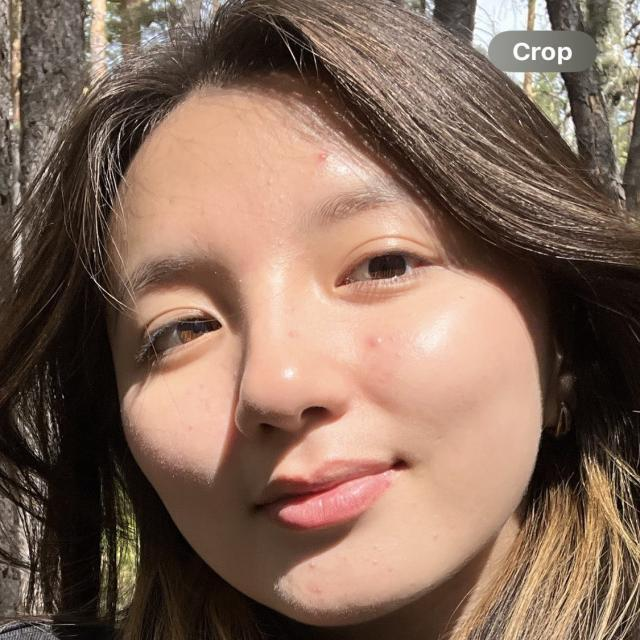acne: (286, 328, 301, 341), (311, 586, 323, 593), (269, 218, 278, 225), (433, 534, 440, 542), (278, 240, 285, 247), (308, 562, 315, 569), (189, 424, 196, 430), (372, 559, 379, 564), (269, 179, 274, 185)
nodules: (359, 328, 393, 356), (312, 145, 337, 166)
